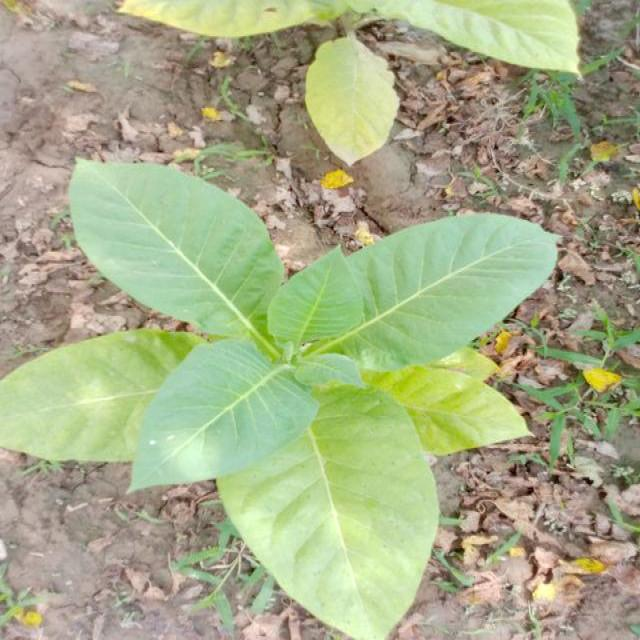crop: (2, 161, 559, 640)
